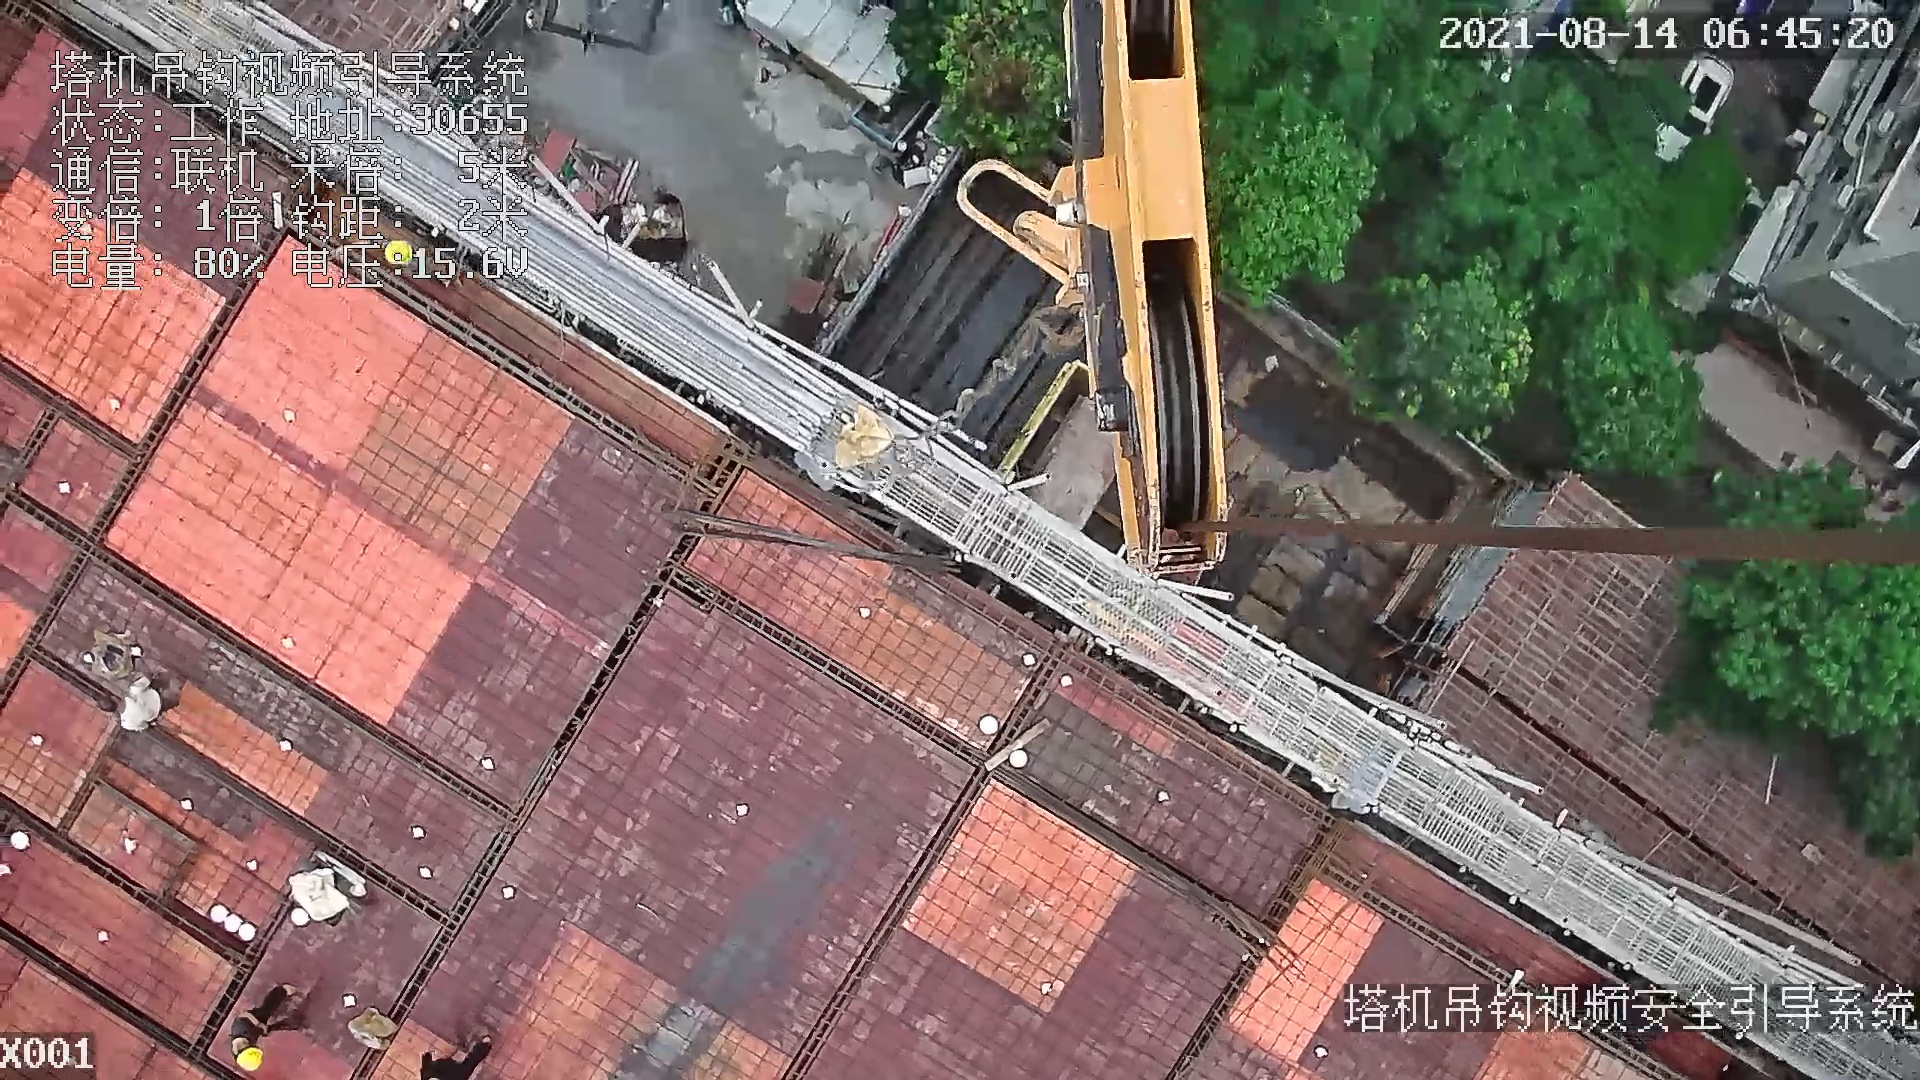helmet: (233, 1045, 270, 1074), (388, 241, 418, 267)
hook: (945, 1, 1241, 581)
person: (226, 976, 310, 1068), (93, 674, 184, 739), (409, 1036, 494, 1080)
